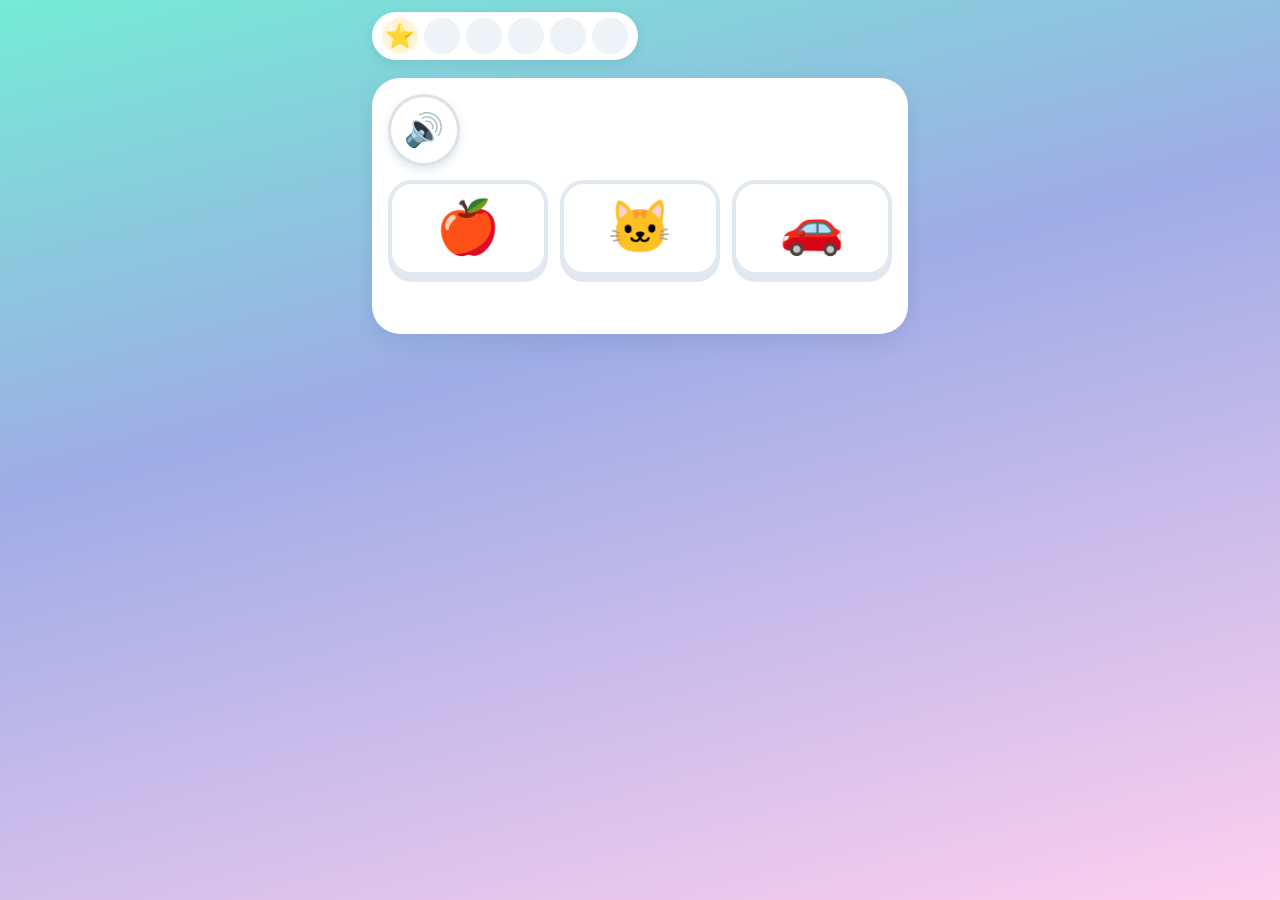
ExerciseSession (session) › ilk soru Başla dokunuşunda okunur; 6 doğru → olaylar ve set sonu
Earlier steps of the test are not shown.
Expected: the button named "Soruyu tekrar dinle" is shown, [388, 94, 460, 166]
Step 1. Click the button named "elma" → (468, 228), box [388, 180, 548, 276]
Wait 500 ms
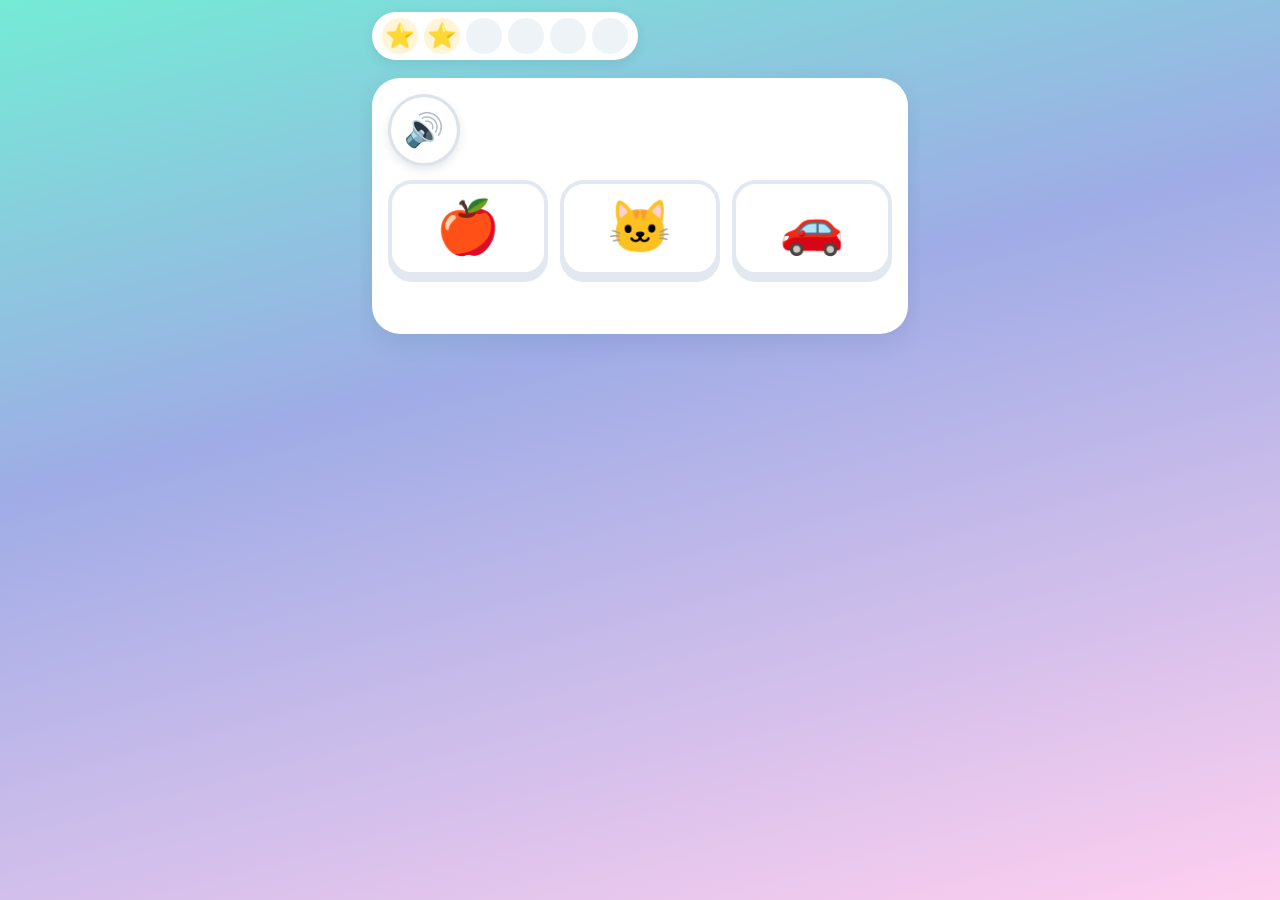
Expected: the button named "Soruyu tekrar dinle" is shown, [388, 94, 460, 166]
Step 2. Click the button named "elma" → (468, 228), box [388, 180, 548, 276]
Wait 500 ms
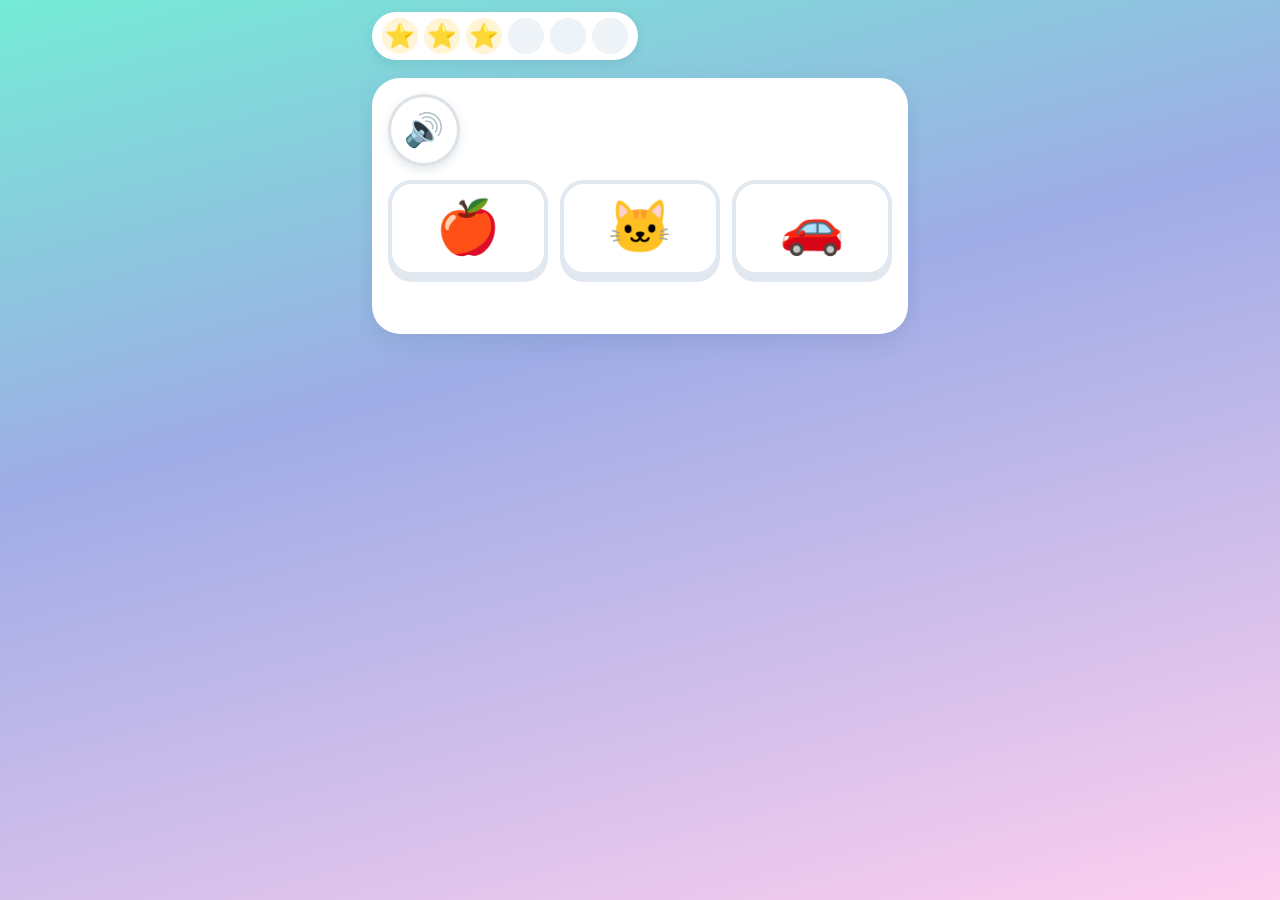
Expected: the button named "Soruyu tekrar dinle" is shown, [388, 94, 460, 166]
Step 3. Click the button named "elma" → (468, 228), box [388, 180, 548, 276]
Wait 500 ms
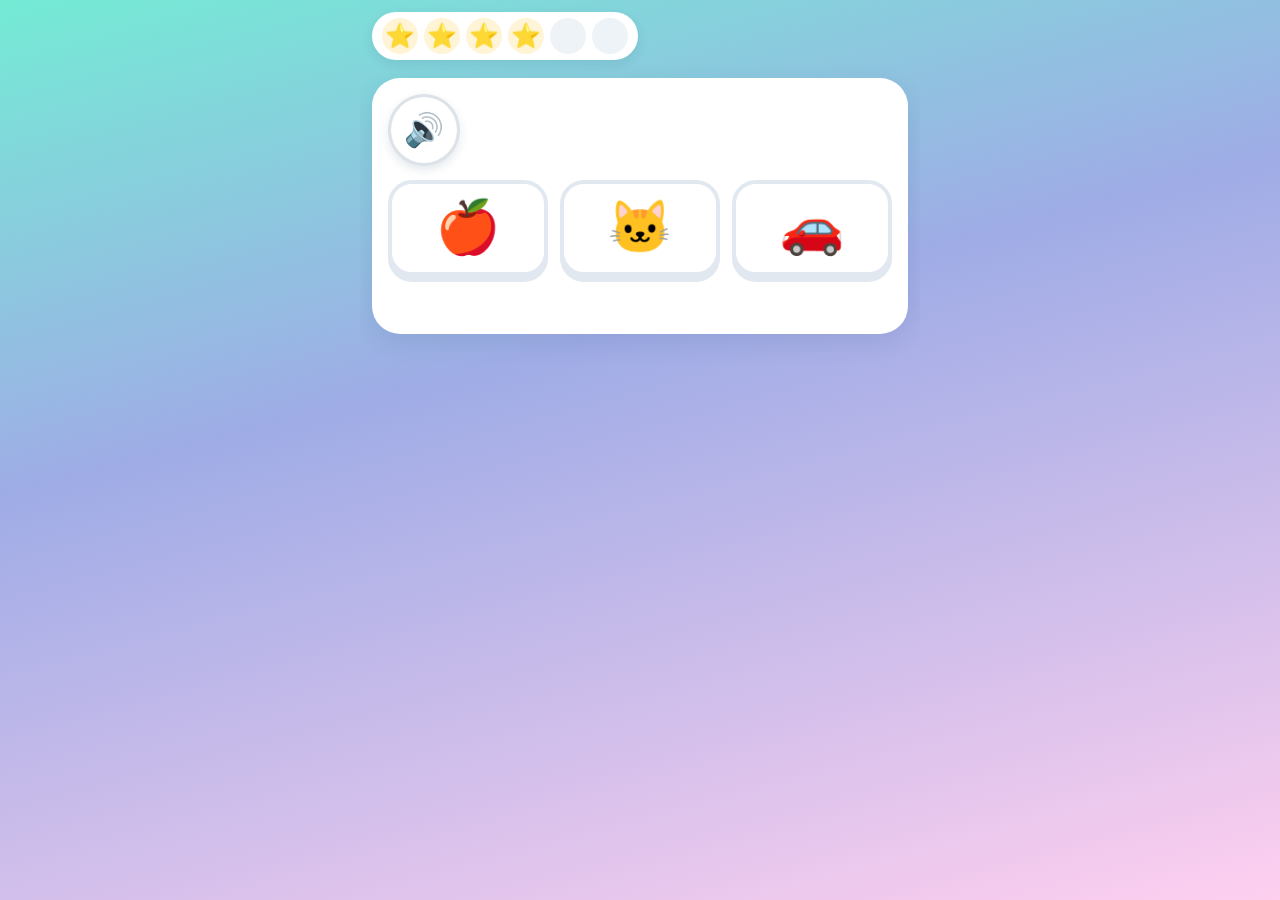
Expected: the button named "Soruyu tekrar dinle" is shown, [388, 94, 460, 166]
Step 4. Click the button named "elma" → (468, 228), box [388, 180, 548, 276]
Wait 500 ms
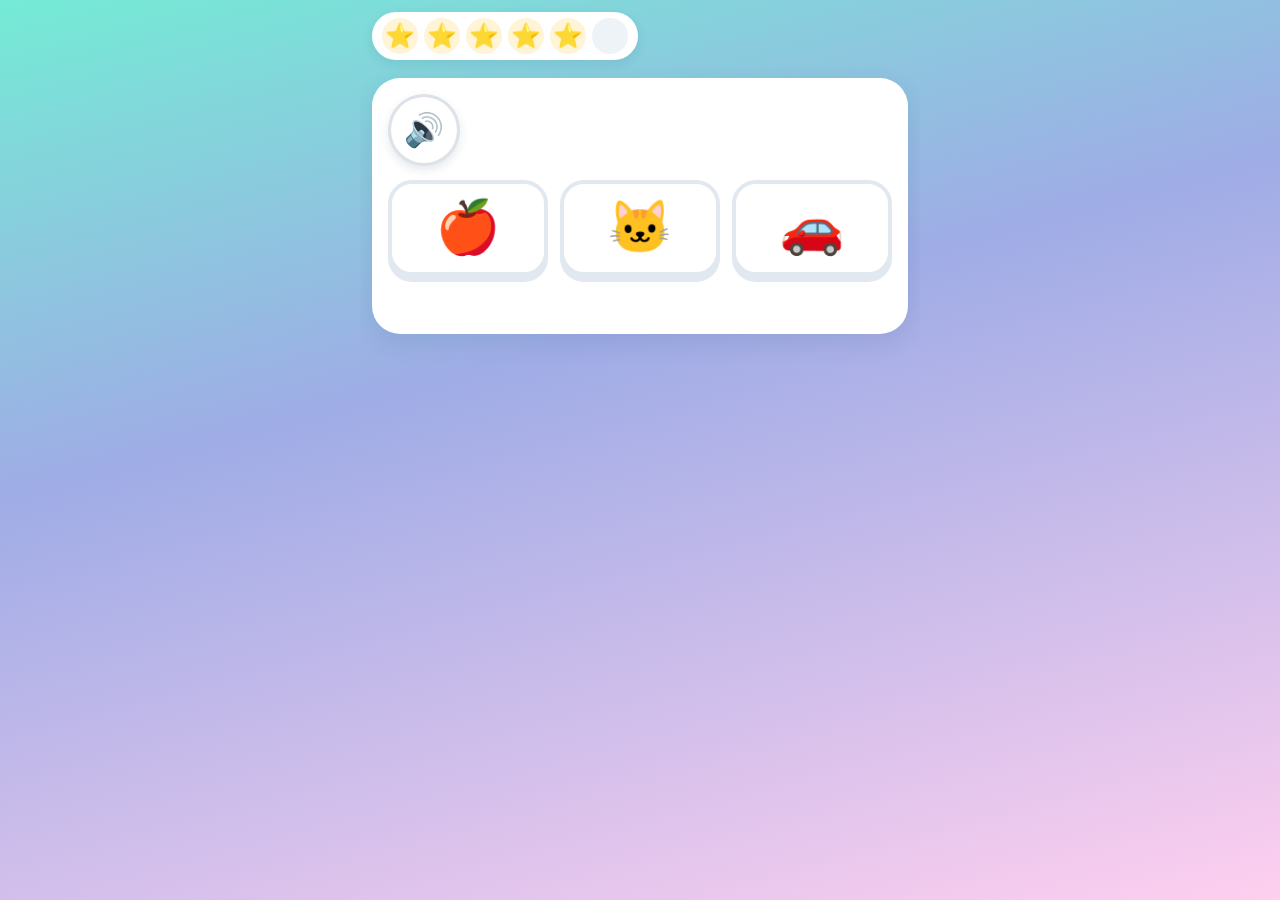
Expected: the button named "Soruyu tekrar dinle" is shown, [388, 94, 460, 166]
Step 5. Click the button named "elma" → (468, 228), box [388, 180, 548, 276]
Wait 500 ms
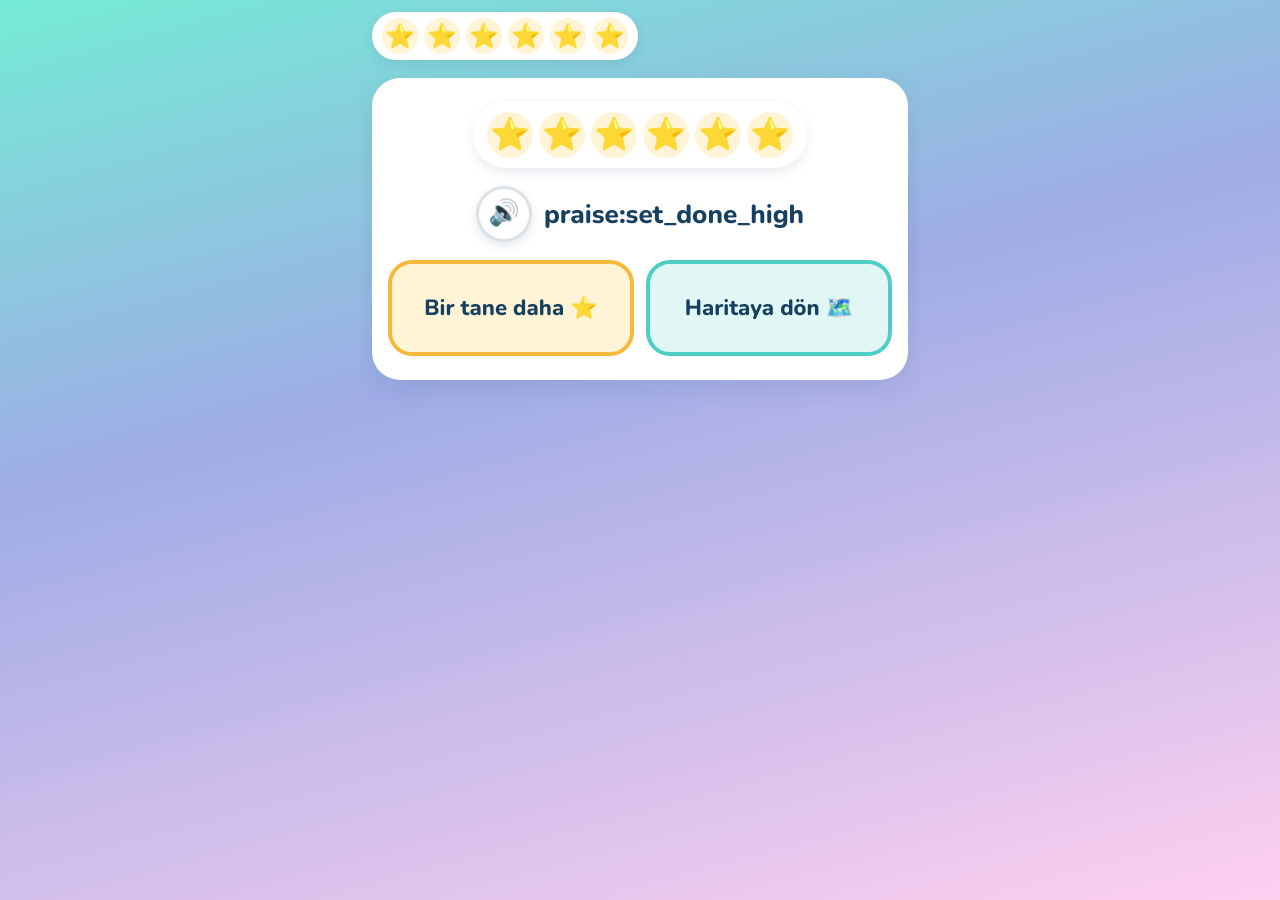
Step 6. Click the button "Bir tane daha ⭐" → (511, 308), box [388, 260, 634, 356]
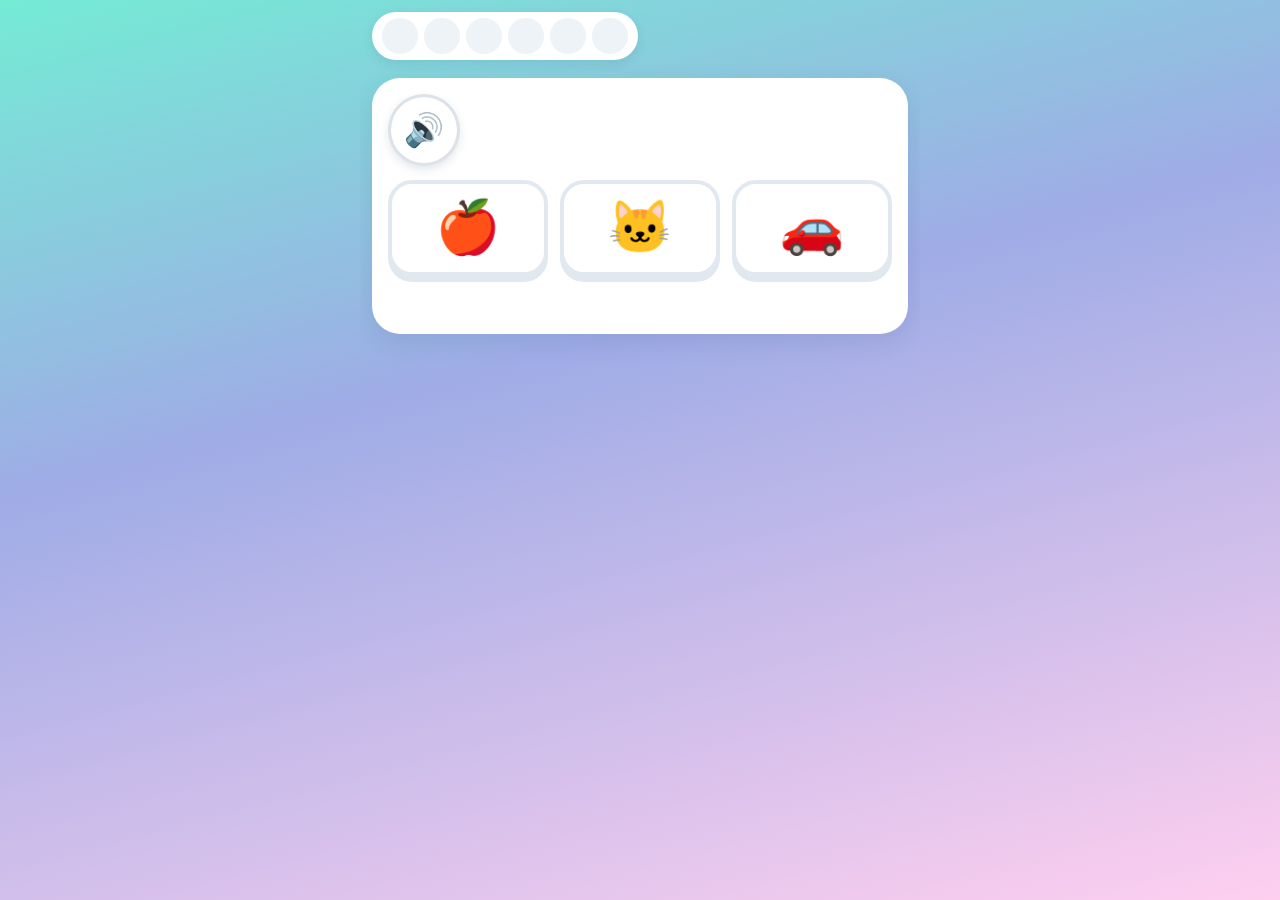
Expected: the button "Bir tane daha ⭐" is gone
